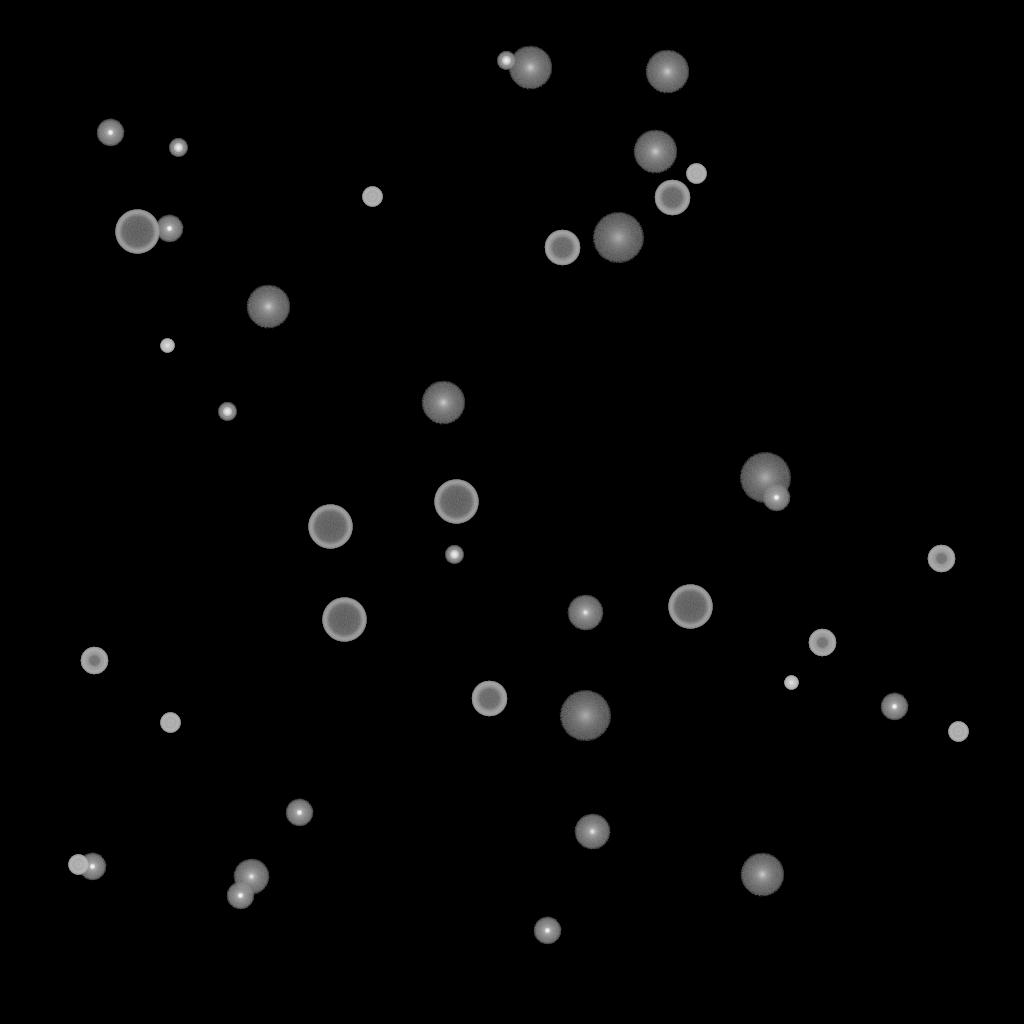depth:-10: (762, 484, 790, 512), (533, 917, 561, 945), (880, 693, 908, 721), (285, 799, 313, 827), (96, 119, 124, 147), (78, 853, 106, 881), (155, 215, 183, 243), (226, 882, 254, 910)
depth:-20: (169, 139, 187, 157), (445, 546, 463, 564), (218, 403, 236, 421), (497, 52, 515, 70)
depth:-30: (784, 676, 798, 690), (160, 339, 174, 353)
depth:-40: (948, 722, 968, 742), (68, 855, 88, 875), (160, 713, 180, 733), (362, 187, 382, 207), (686, 164, 706, 184)
depth:-50: (80, 647, 108, 675), (927, 545, 955, 573), (808, 629, 836, 657)
depth:-60: (544, 230, 580, 266), (471, 681, 507, 717), (654, 180, 690, 216)
depth:-70: (434, 480, 478, 524), (115, 210, 159, 254), (308, 505, 352, 549), (668, 585, 712, 629), (322, 598, 366, 642)
depth:0: (574, 814, 610, 850), (567, 595, 603, 631), (233, 859, 269, 895)
depth:10: (246, 285, 290, 329), (633, 130, 677, 174), (421, 381, 465, 425), (645, 50, 689, 94), (740, 853, 784, 897), (508, 46, 552, 90)
depth:20: (739, 453, 791, 503), (592, 213, 644, 263), (559, 691, 611, 741)
